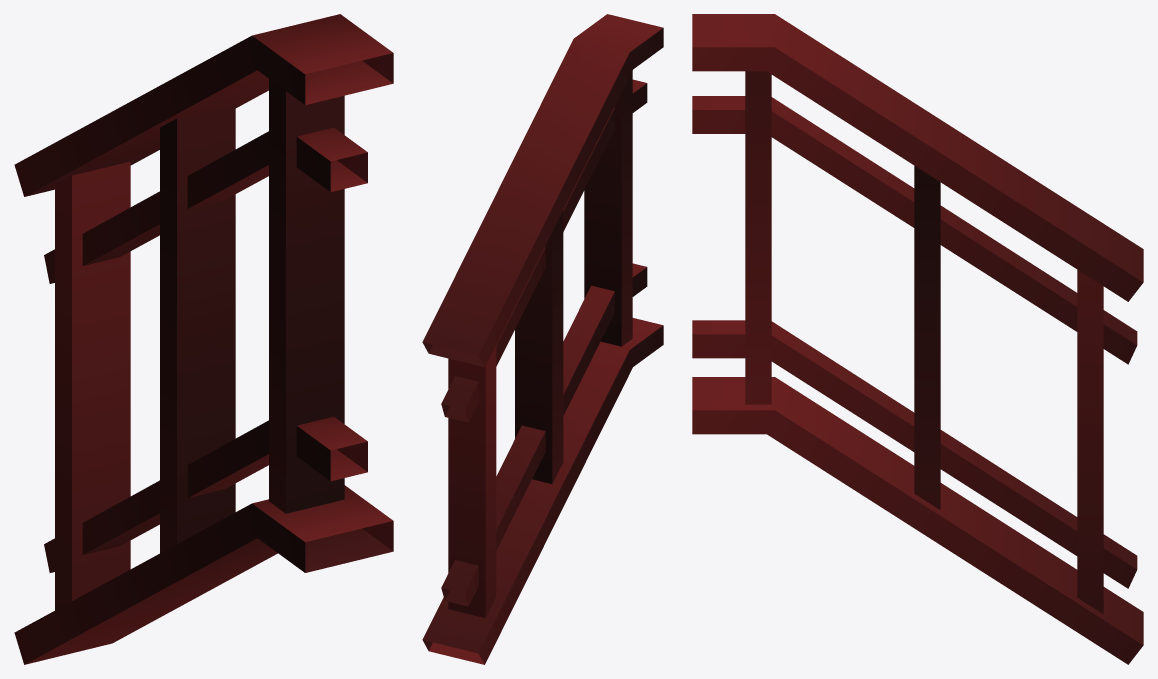
File: stair_railing_-_3_rise.glb
3 renders of one model, left to right at view 1: azimuth 30°, elevation 25°; view 2: azimuth 150°, elevation 25°; view 3: azimuth 270°, elevation 25°, orthographic. The views are drawn at different scales.
Parts seen in each view (by area): view 1: Object_2; view 2: Object_2; view 3: Object_2.
Part boxes in pixels (x1,y1,x2,y2): Object_2: (14,14,393,664); Object_2: (422,14,663,664); Object_2: (692,14,1143,664).
Bounding box in the file's own units: 0.1524 × 1.31 × 0.8694.
Materials: 1 (1 with a texture image).
